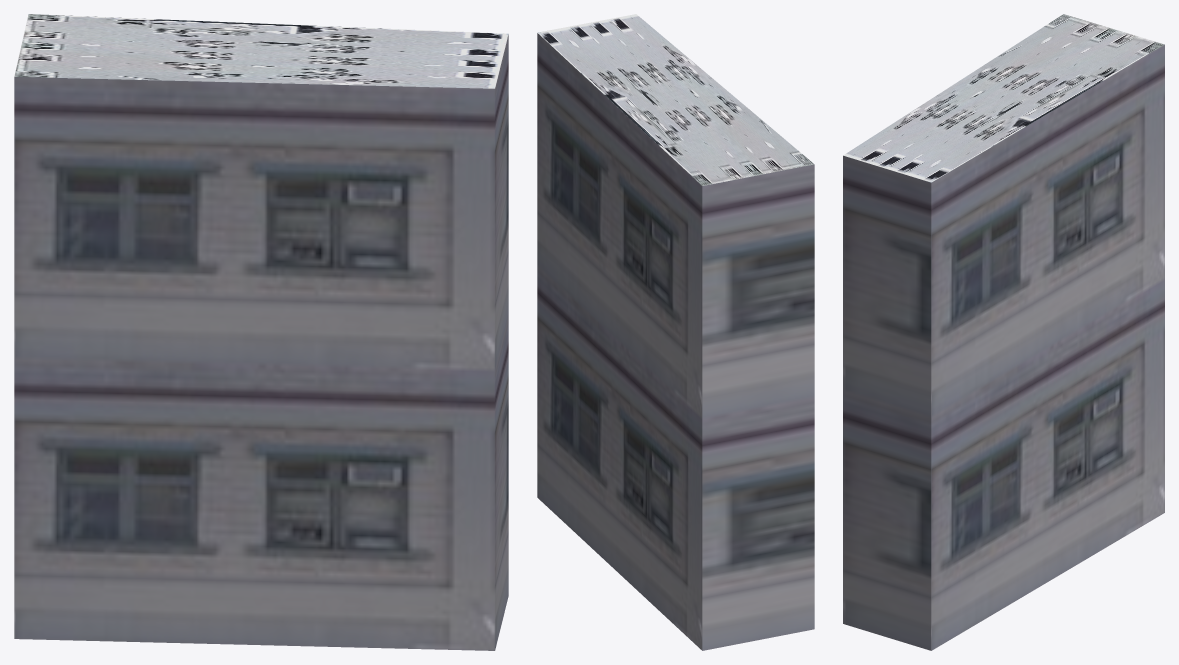
The model's file is ResTex__3228.fbx.
3 views of the same model, side by side, from view 1: azimuth 30°, elevation 25°; view 2: azimuth 150°, elevation 25°; view 3: azimuth 270°, elevation 25° (orthographic). The views are drawn at different scales.
Parts seen in each view (by area): view 1: CityEngineMaterial_1_m, CityEngineMaterial_m; view 2: CityEngineMaterial_1_m, CityEngineMaterial_m; view 3: CityEngineMaterial_1_m, CityEngineMaterial_m.
Boxes of the visible parts, box(x1,y1,x2,y2) form: CityEngineMaterial_1_m: box(14, 34, 508, 650); CityEngineMaterial_m: box(14, 14, 508, 88); CityEngineMaterial_1_m: box(537, 33, 814, 650); CityEngineMaterial_m: box(537, 14, 814, 185); CityEngineMaterial_1_m: box(843, 44, 1164, 650); CityEngineMaterial_m: box(843, 14, 1164, 182).
Size of the model in its own units: 4.64 by 6 by 3.74.
Materials: 2 (2 with a texture image).
